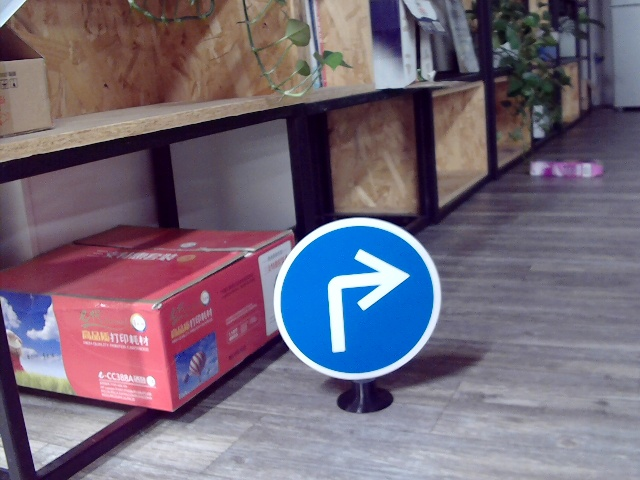turn_right: (313, 253, 406, 347)
